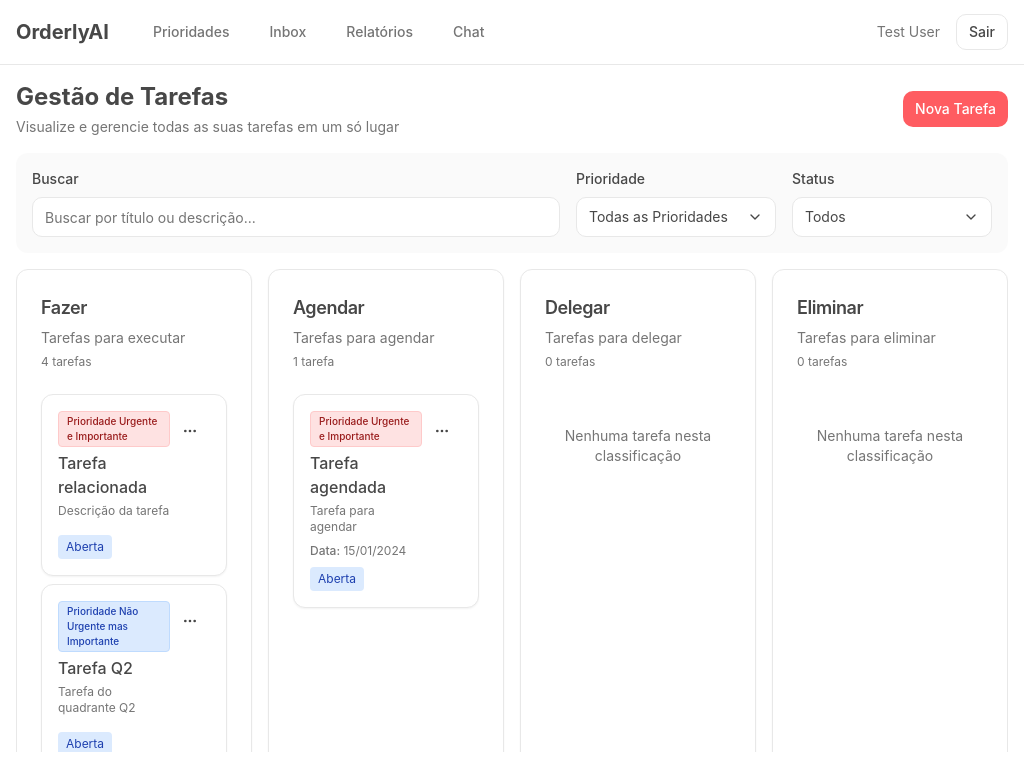
AllTasksPage › Edição de Tarefa › deve abrir dialog de edição ao clicar em Editar
The image size is (1024, 768).
Expected: the heading "Gestão de Tarefas" is shown, [16, 82, 228, 111]
Expected: the heading "Tarefa relacionada" is shown, [58, 453, 147, 497]
Click the 3rd button. click: (190, 431)
box: [170, 411, 210, 451]
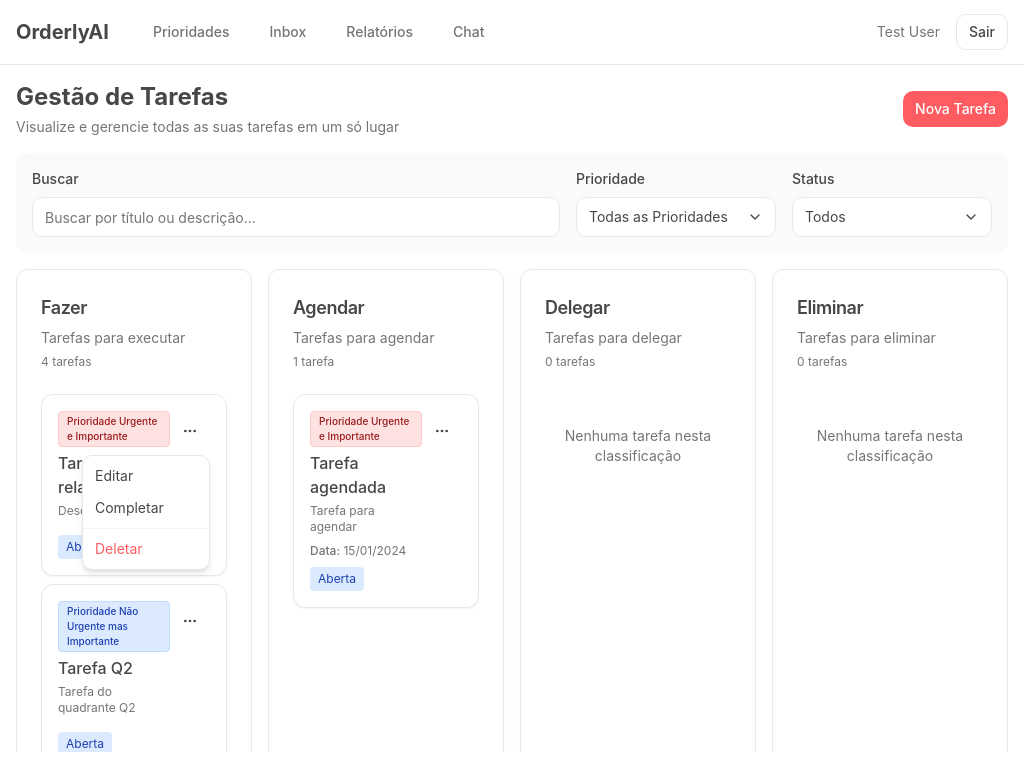
Now the menu item "Editar" is shown
Click the menu item "Editar". click: (114, 476)
box: [95, 467, 133, 484]
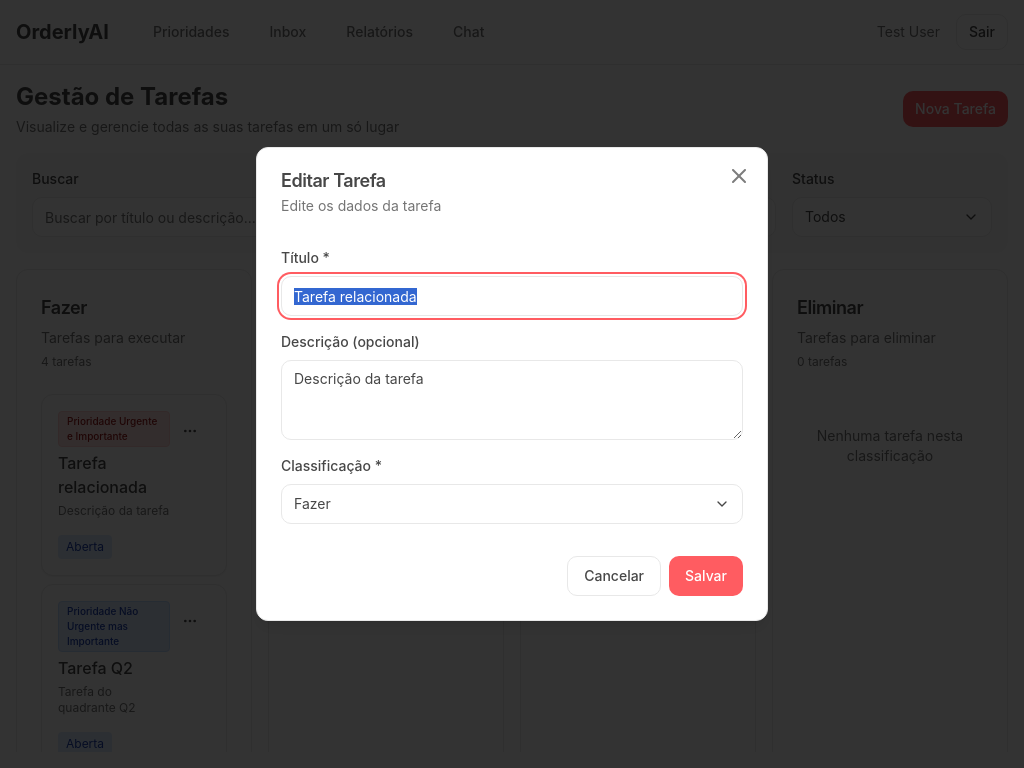
Now the dialog "Editar Tarefa" is shown, box [256, 147, 768, 621]
